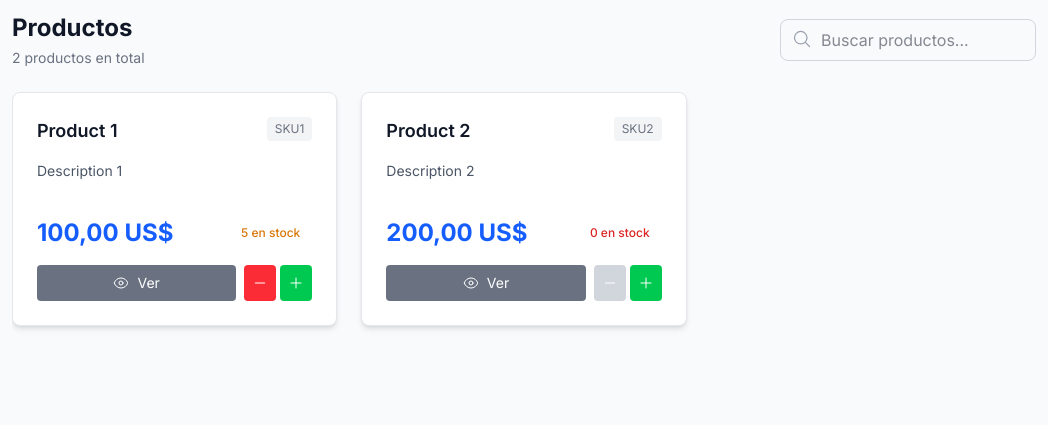
Test case: ProductList › handles search functionality
Step 1. Type "Product 1" into the field with placeholder "Buscar productos..." → (908, 40), box x1=780 y1=19 x2=1036 y2=61
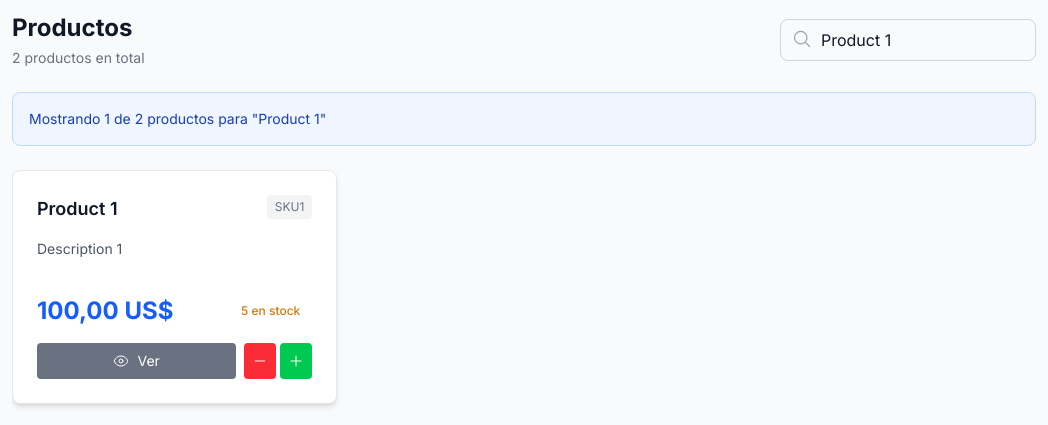
Expected: the heading "Product 1" is shown, x1=37 y1=198 x2=118 y2=219
Expected: the heading "Product 2" is gone
